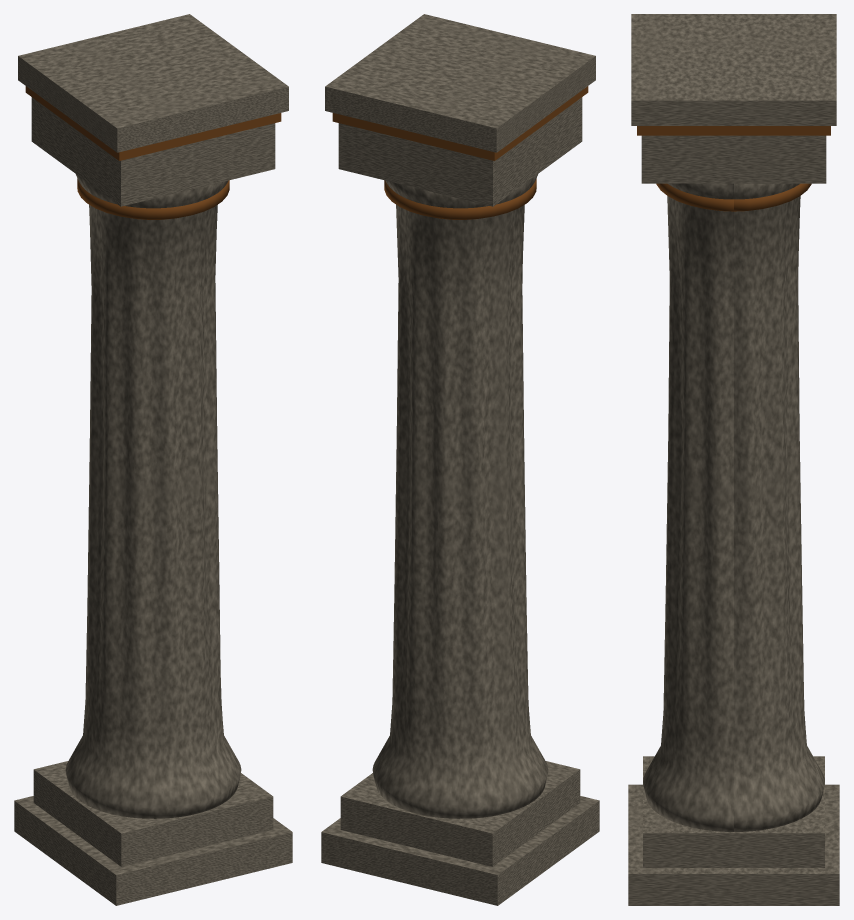
File: fortress_pillar.glb
3 views of the same model, side by side, from view 1: azimuth 30°, elevation 25°; view 2: azimuth 150°, elevation 25°; view 3: azimuth 270°, elevation 25° (orthographic). The views are drawn at different scales.
Parts seen in each view (by area): view 1: FortressPillar; view 2: FortressPillar; view 3: FortressPillar.
Boxes of the visible parts, x1,y1,x2,y2 form: FortressPillar: [14, 14, 292, 905]; FortressPillar: [321, 14, 599, 905]; FortressPillar: [628, 14, 839, 905].
Bounding box in the file's own units: 0.72 × 3.02 × 0.72.
Materials: 2 (1 with a texture image).
